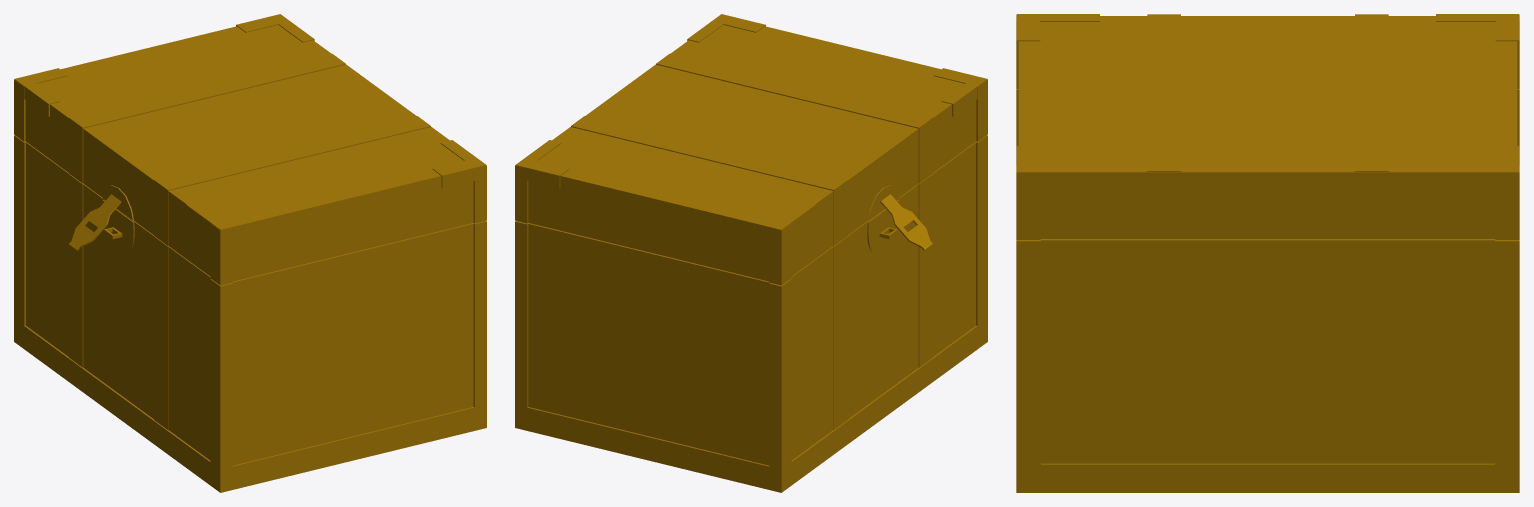
File: Chest.fbx
The picture shows the model from 3 angles, left to right: view 1: azimuth 30°, elevation 25°; view 2: azimuth 150°, elevation 25°; view 3: azimuth 270°, elevation 25°; orthographic projection. The views are drawn at different scales.
Visible parts, largest first — view 1: Chest1; view 2: Chest1; view 3: Chest1.
Boxes of the visible parts, bbox=[...] form: Chest1: bbox=[14, 14, 486, 492]; Chest1: bbox=[515, 14, 987, 492]; Chest1: bbox=[1016, 14, 1519, 492].
Size of the model in its own units: 1.85 by 1.5 by 2.13.
